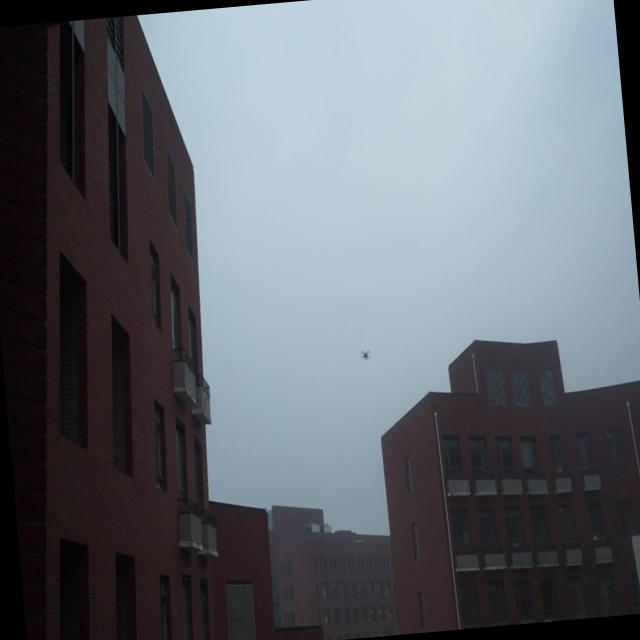drone: (358, 346, 371, 362)
